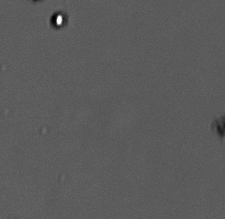Living Cell: (51, 13, 67, 28)
